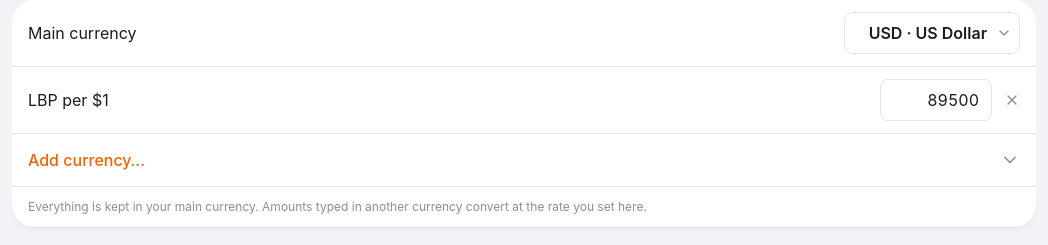
CurrencySettings › strips everything but digits and one dot from a rate
Replace the text in the field labelled "LBP per $1" with "9a0.0.5": (936, 100) [880, 79, 992, 121]
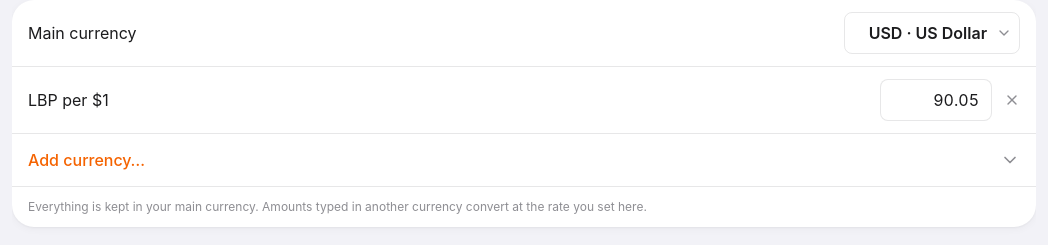
Result: the field labelled "LBP per $1" holds "90.05" at [880, 79, 992, 121]
